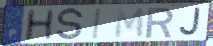H: (22, 8, 57, 43)
I: (91, 8, 104, 41)
J: (178, 6, 202, 38)
M: (113, 7, 145, 40)
R: (145, 7, 176, 39)
S: (54, 7, 85, 43)
